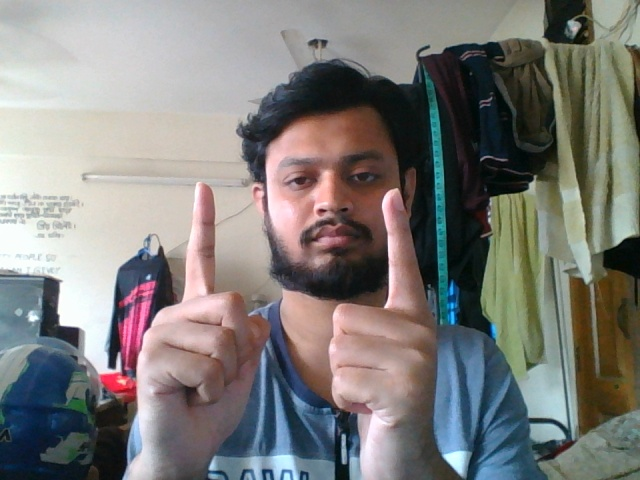ishara: (129, 177, 490, 471)
